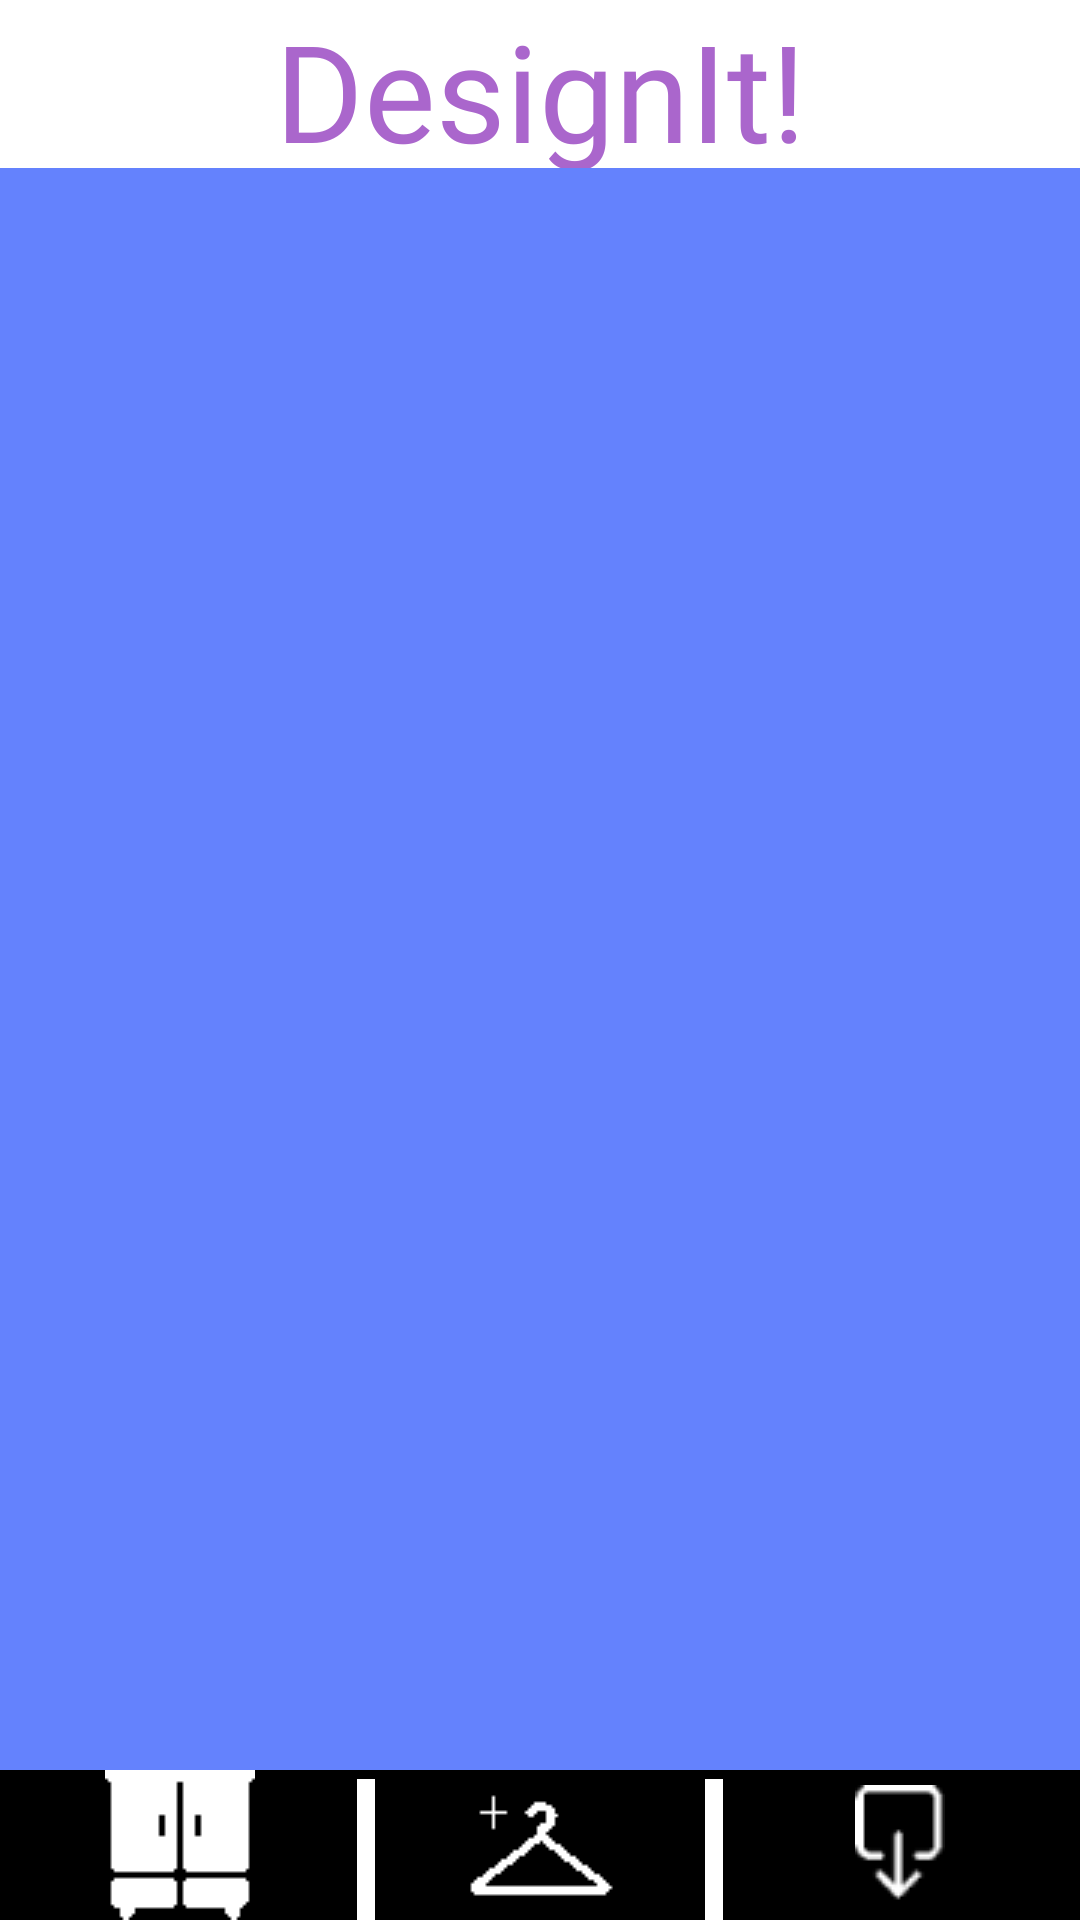

Icons on this 1080 x 1920 Android screen, each with the point to tap as (x=x, y=y):
closet: (x=180, y=1845)
newhanger: (x=540, y=1845)
saveicon: (x=900, y=1845)
